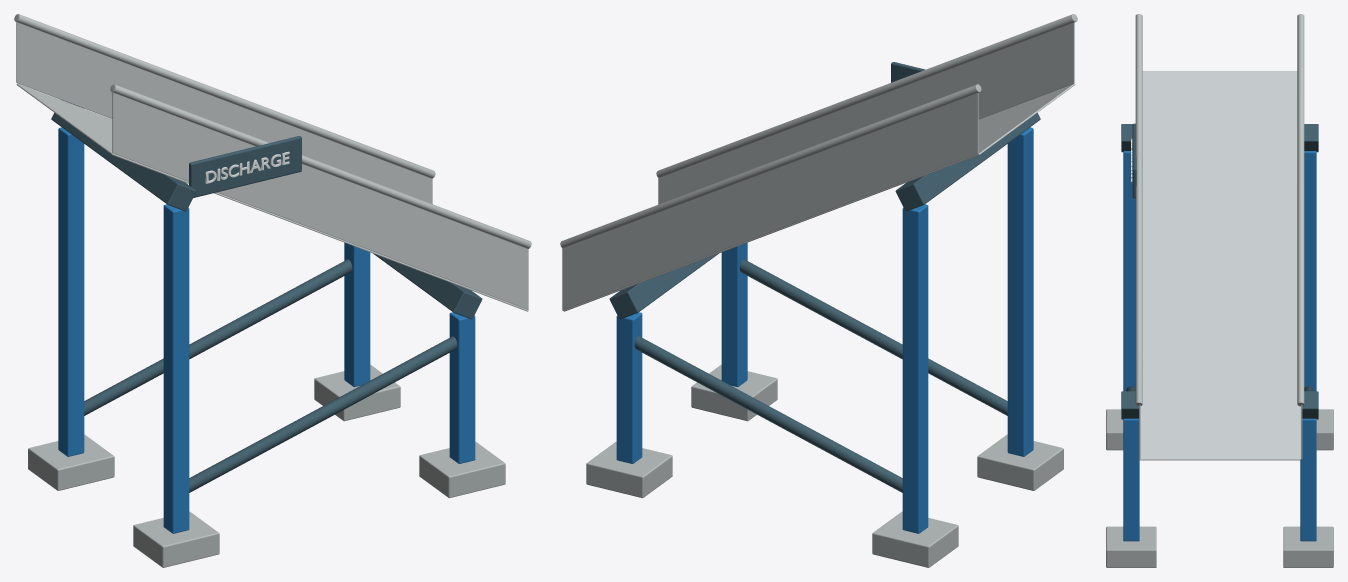
File: powder_discharge_chute.glb
The picture shows the model from 3 angles, left to right: view 1: azimuth 30°, elevation 25°; view 2: azimuth 150°, elevation 25°; view 3: azimuth 270°, elevation 25°; orthographic projection. The views are drawn at different scales.
Visible parts, largest first — view 1: CHUTE_side_-1, CHUTE_side_1, CHUTE_leg_-0.55_-0.35, CHUTE_leg_-0.55_0.35, CHUTE_frame_brace_-0.35, CHUTE_upper_lip_1, CHUTE_leg_0.55_-0.35, CHUTE_frame_brace_0.35, CHUTE_nameplate, CHUTE_upper_lip_-1, CHUTE_leg_0.55_0.35, CHUTE_foot_0.55_-0.35 (+7 smaller); view 2: CHUTE_side_1, CHUTE_side_-1, CHUTE_leg_-0.55_0.35, CHUTE_leg_-0.55_-0.35, CHUTE_frame_brace_0.35, CHUTE_upper_lip_-1, CHUTE_upper_lip_1, CHUTE_leg_0.55_0.35, CHUTE_frame_brace_-0.35, CHUTE_leg_0.55_-0.35, CHUTE_foot_0.55_0.35, CHUTE_foot_-0.55_0.35 (+5 smaller); view 3: CHUTE_bottom, CHUTE_upper_lip_1, CHUTE_upper_lip_-1, CHUTE_leg_-0.55_0.35, CHUTE_leg_-0.55_-0.35, CHUTE_leg_0.55_-0.35, CHUTE_leg_0.55_0.35, CHUTE_foot_0.55_0.35, CHUTE_foot_0.55_-0.35, CHUTE_crossbeam_0.55, CHUTE_foot_-0.55_0.35, CHUTE_foot_-0.55_-0.35 (+2 smaller).
Boxes of the visible parts, bbox=[...] form: CHUTE_side_-1: bbox=[112, 92, 528, 309]; CHUTE_side_1: bbox=[16, 22, 432, 203]; CHUTE_leg_-0.55_-0.35: bbox=[163, 204, 189, 533]; CHUTE_leg_-0.55_0.35: bbox=[58, 127, 84, 456]; CHUTE_frame_brace_-0.35: bbox=[189, 336, 457, 492]; CHUTE_upper_lip_1: bbox=[14, 14, 435, 178]; CHUTE_leg_0.55_-0.35: bbox=[449, 312, 475, 463]; CHUTE_frame_brace_0.35: bbox=[84, 259, 352, 415]; CHUTE_nameplate: bbox=[189, 136, 301, 197]; CHUTE_upper_lip_-1: bbox=[110, 84, 531, 248]; CHUTE_leg_0.55_0.35: bbox=[344, 242, 370, 386]; CHUTE_foot_0.55_-0.35: bbox=[419, 441, 505, 498]; CHUTE_side_1: bbox=[562, 93, 978, 310]; CHUTE_side_-1: bbox=[658, 22, 1074, 204]; CHUTE_leg_-0.55_0.35: bbox=[902, 204, 928, 533]; CHUTE_leg_-0.55_-0.35: bbox=[1007, 127, 1033, 456]; CHUTE_frame_brace_0.35: bbox=[634, 336, 902, 492]; CHUTE_upper_lip_-1: bbox=[656, 14, 1077, 178]; CHUTE_upper_lip_1: bbox=[560, 84, 981, 248]; CHUTE_leg_0.55_0.35: bbox=[616, 312, 642, 463]; CHUTE_frame_brace_-0.35: bbox=[739, 259, 1007, 415]; CHUTE_leg_0.55_-0.35: bbox=[721, 242, 747, 386]; CHUTE_foot_0.55_0.35: bbox=[586, 441, 672, 498]; CHUTE_foot_-0.55_0.35: bbox=[872, 511, 958, 567]; CHUTE_bottom: bbox=[1139, 71, 1300, 460]; CHUTE_upper_lip_1: bbox=[1297, 14, 1304, 406]; CHUTE_upper_lip_-1: bbox=[1135, 14, 1142, 406]; CHUTE_leg_-0.55_0.35: bbox=[1304, 151, 1316, 391]; CHUTE_leg_-0.55_-0.35: bbox=[1123, 151, 1135, 391]; CHUTE_leg_0.55_-0.35: bbox=[1123, 418, 1139, 541]; CHUTE_leg_0.55_0.35: bbox=[1300, 418, 1316, 541]; CHUTE_foot_0.55_0.35: bbox=[1283, 526, 1333, 567]; CHUTE_foot_0.55_-0.35: bbox=[1106, 526, 1156, 567]; CHUTE_crossbeam_0.55: bbox=[1121, 391, 1318, 419]; CHUTE_foot_-0.55_0.35: bbox=[1316, 409, 1333, 450]; CHUTE_foot_-0.55_-0.35: bbox=[1106, 409, 1123, 450].
Size of the model in its own units: 1.61 by 1.75 by 0.9.
